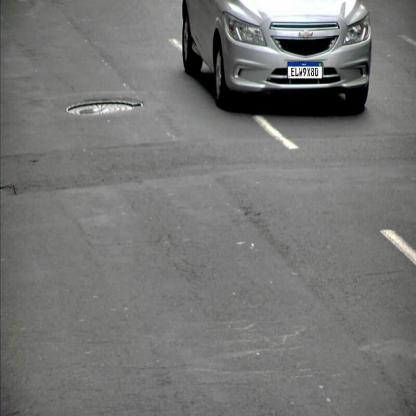PlacaM: (288, 62, 322, 79)
